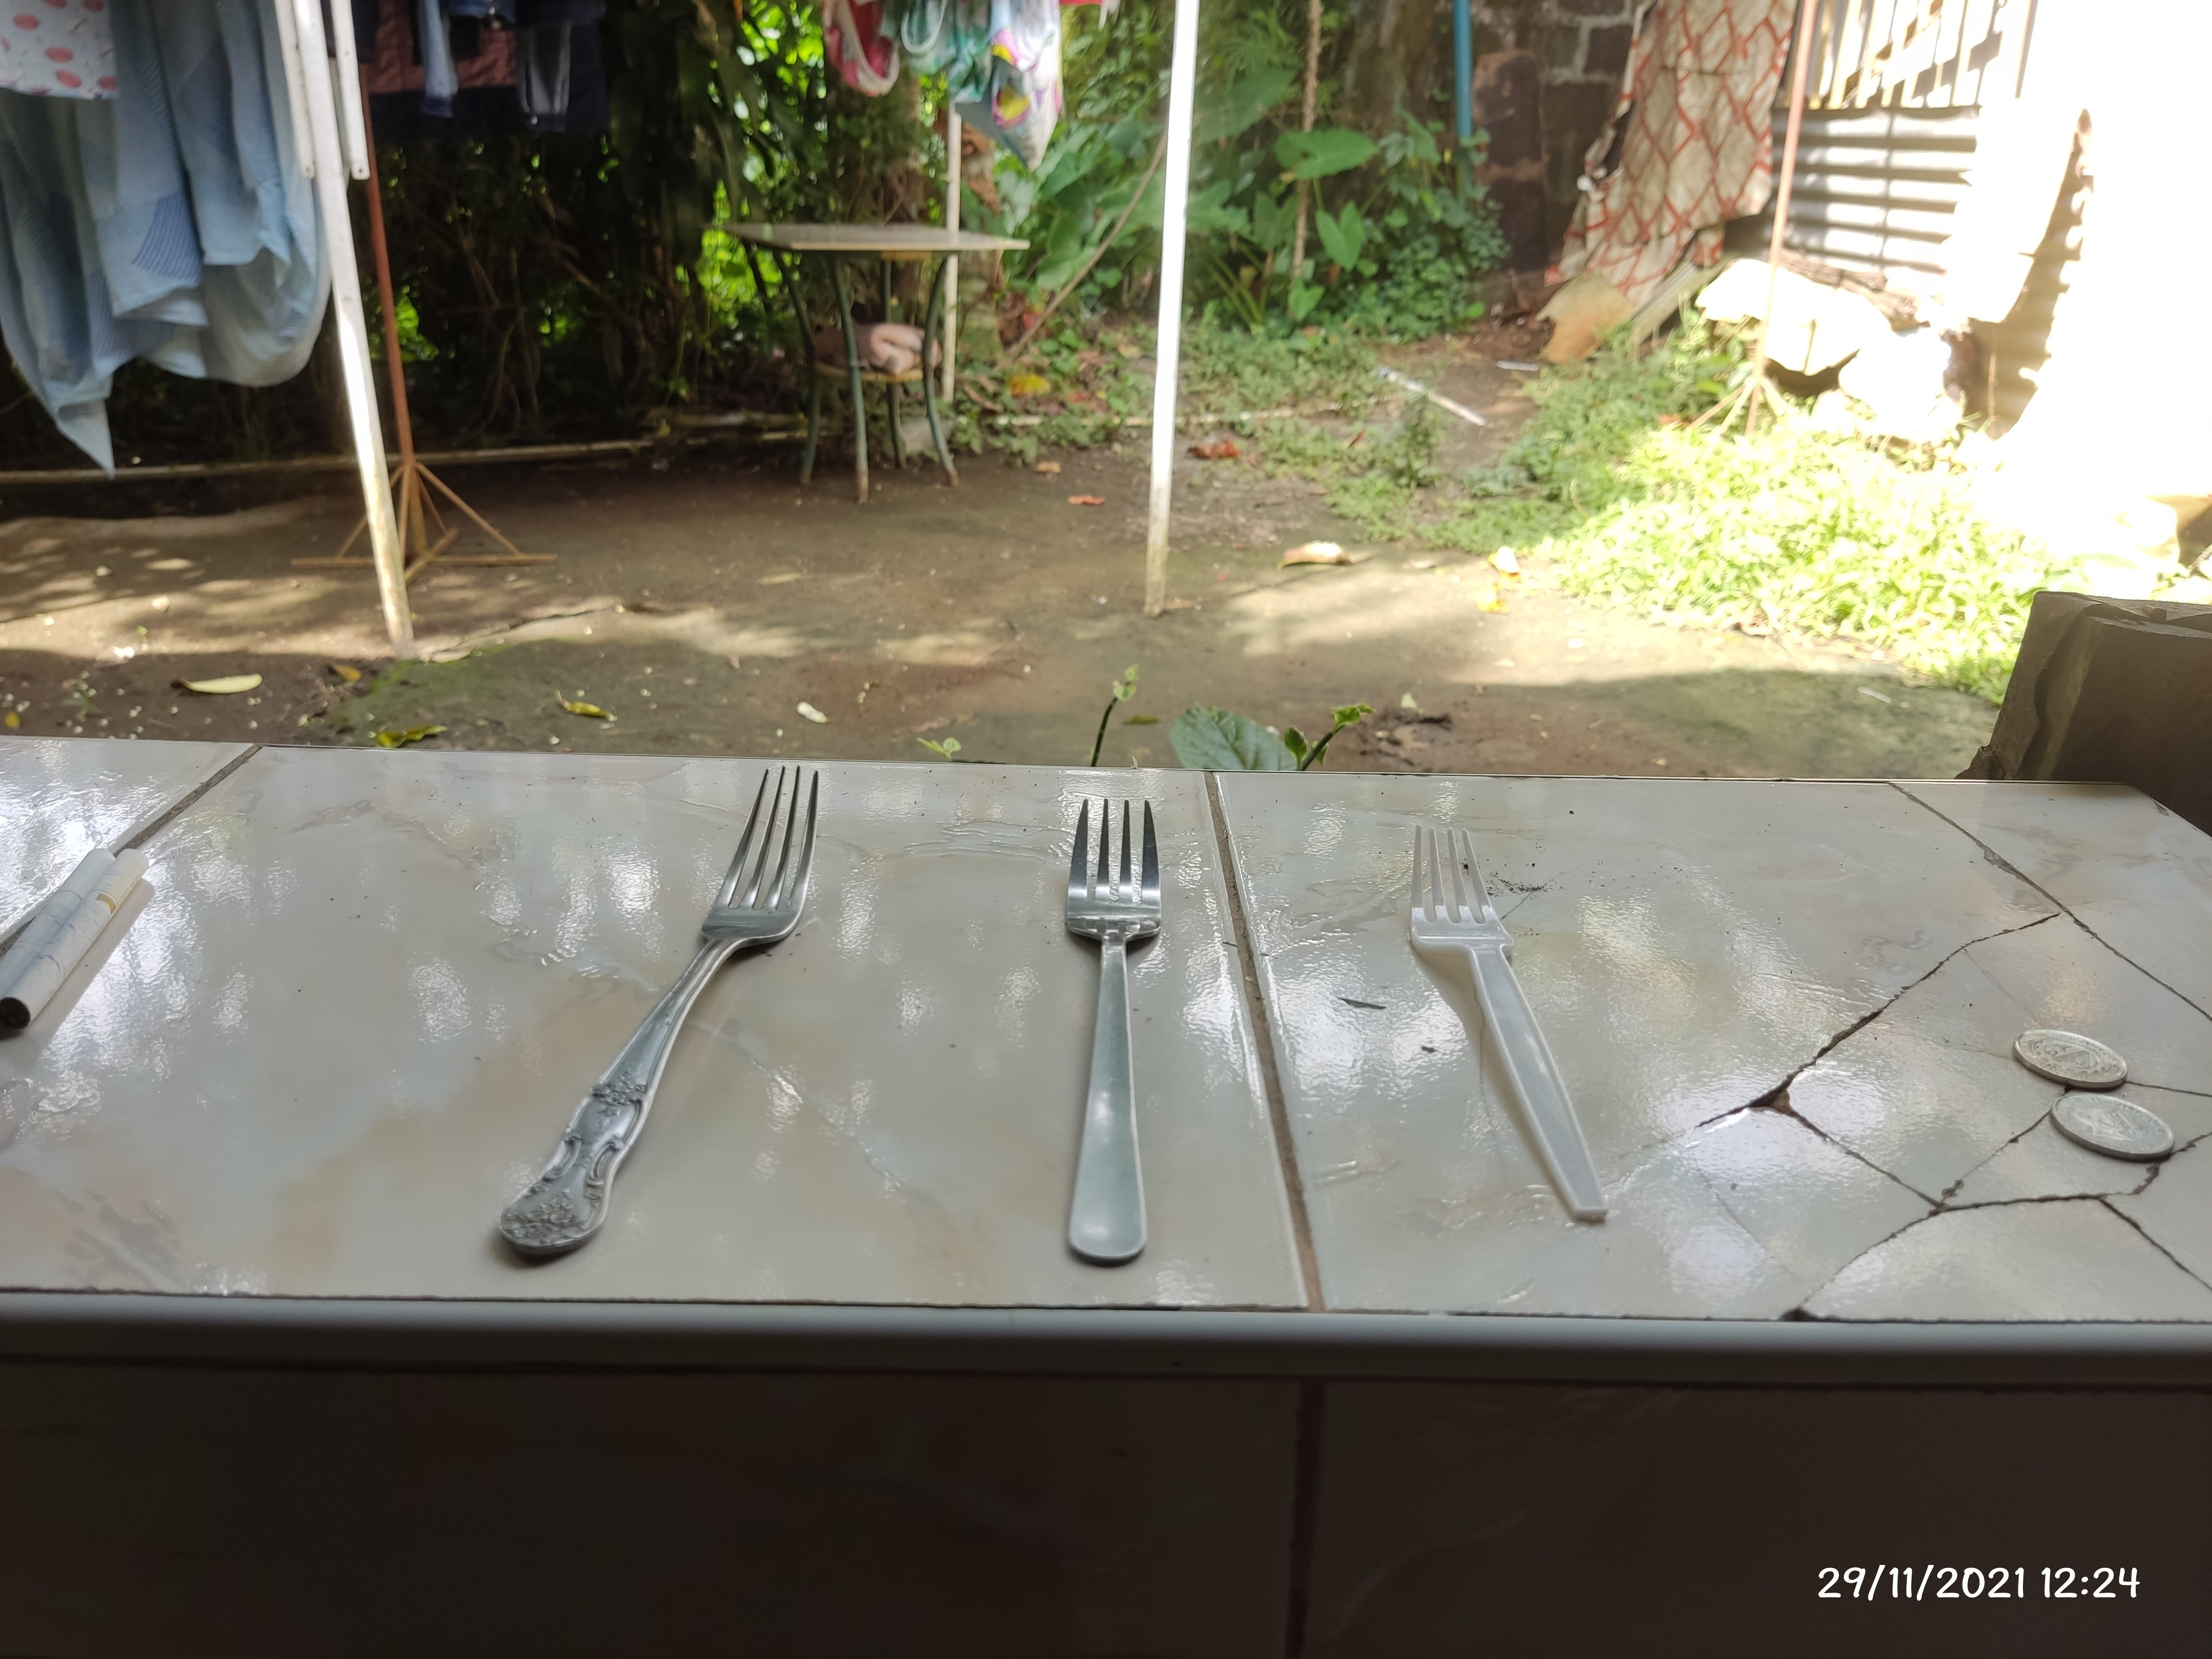fork: (500, 767, 822, 1248), (1409, 824, 1606, 1218), (1057, 791, 1167, 1263)
